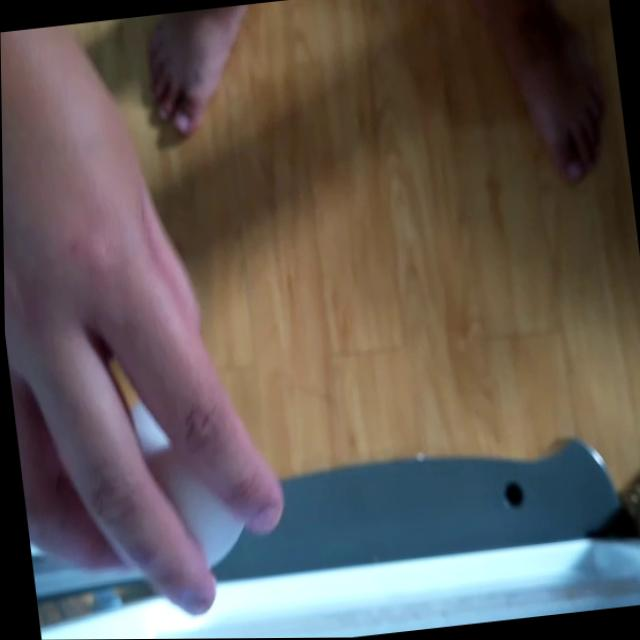egg: (127, 383, 251, 579)
